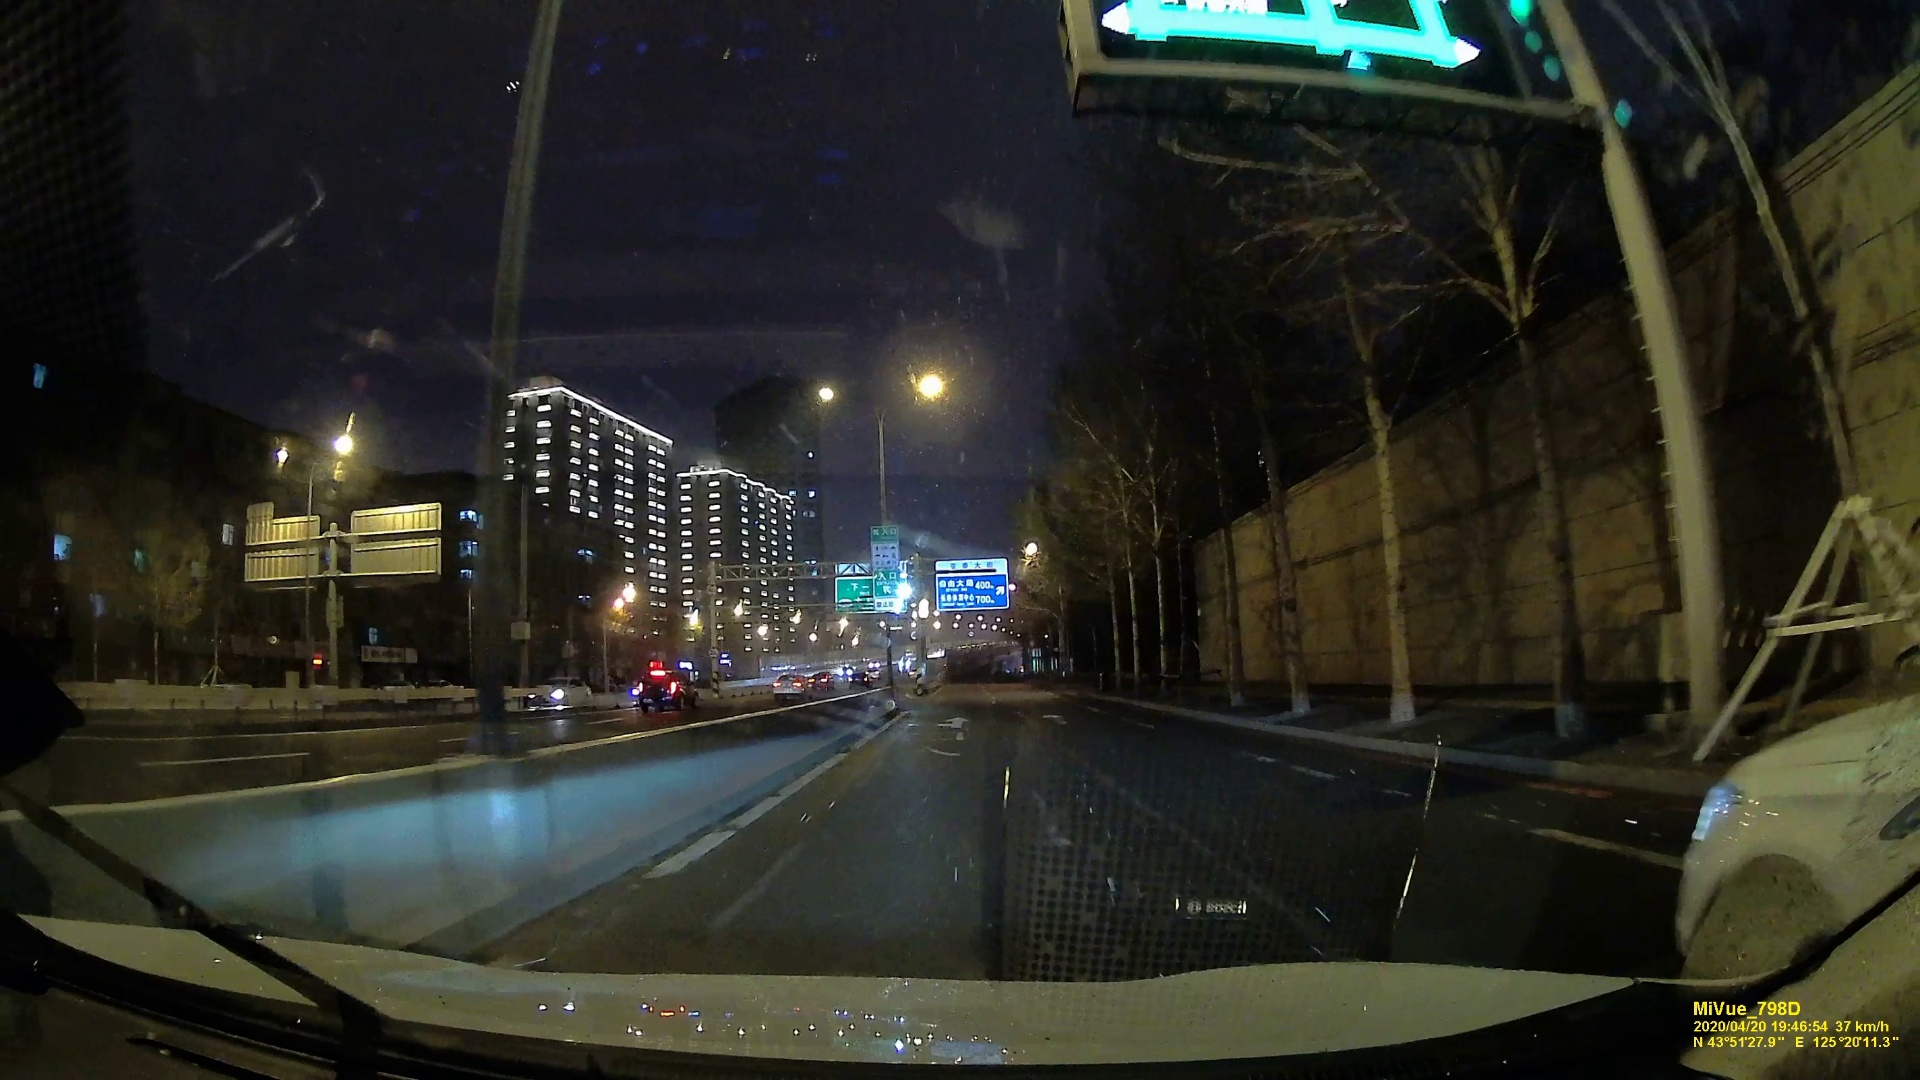traffic_sign: (938, 559, 1007, 611), (833, 563, 870, 612), (872, 566, 907, 609), (870, 525, 898, 564)
vehicle: (636, 676, 702, 712), (527, 674, 591, 709), (771, 673, 810, 698)
